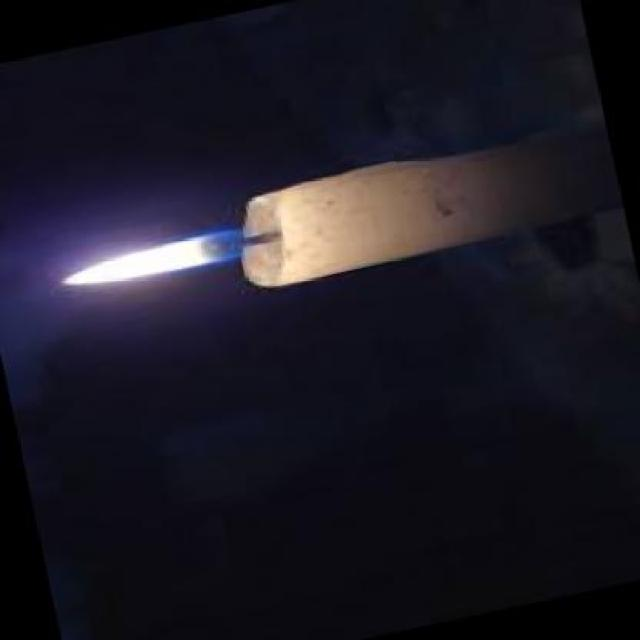Fire: (55, 226, 248, 294)
